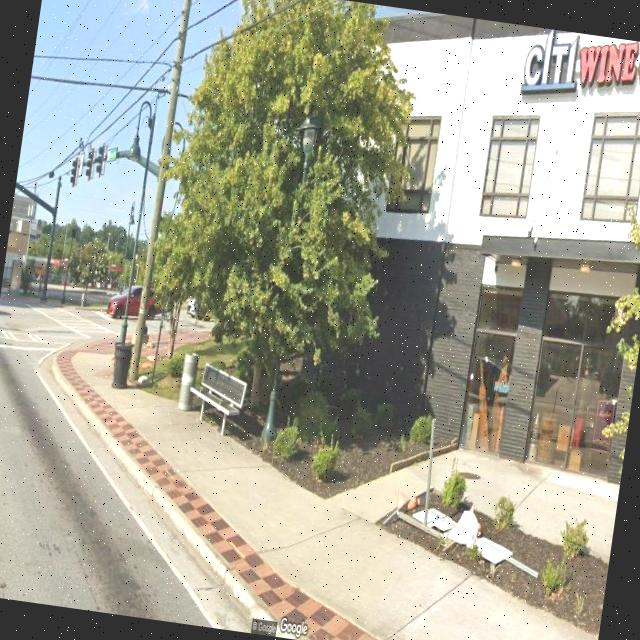seating: (183, 361, 250, 441)
trash_can: (177, 352, 200, 412), (108, 341, 135, 391)
